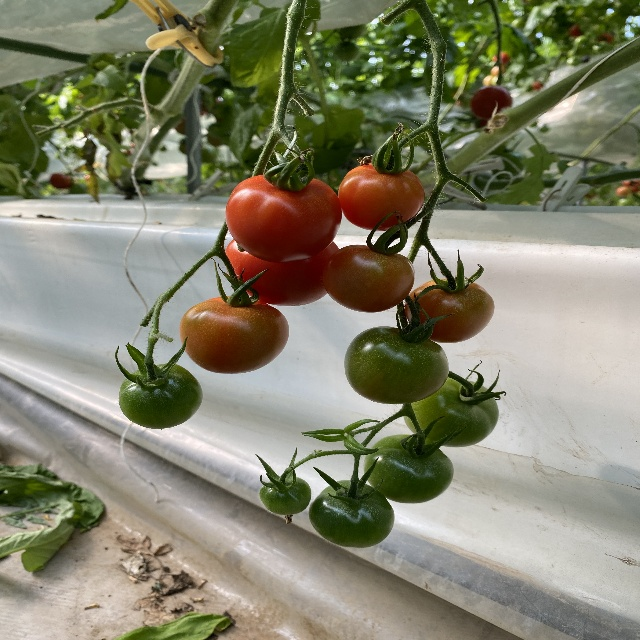l_fully_ripened: (226, 174, 342, 263), (224, 240, 338, 306)
l_green: (344, 326, 449, 406), (402, 380, 500, 447), (364, 435, 455, 503), (309, 480, 395, 548), (118, 363, 204, 429), (259, 477, 311, 515)
l_half_ripened: (180, 297, 289, 374), (323, 243, 417, 313), (336, 161, 425, 232), (403, 278, 496, 343)
